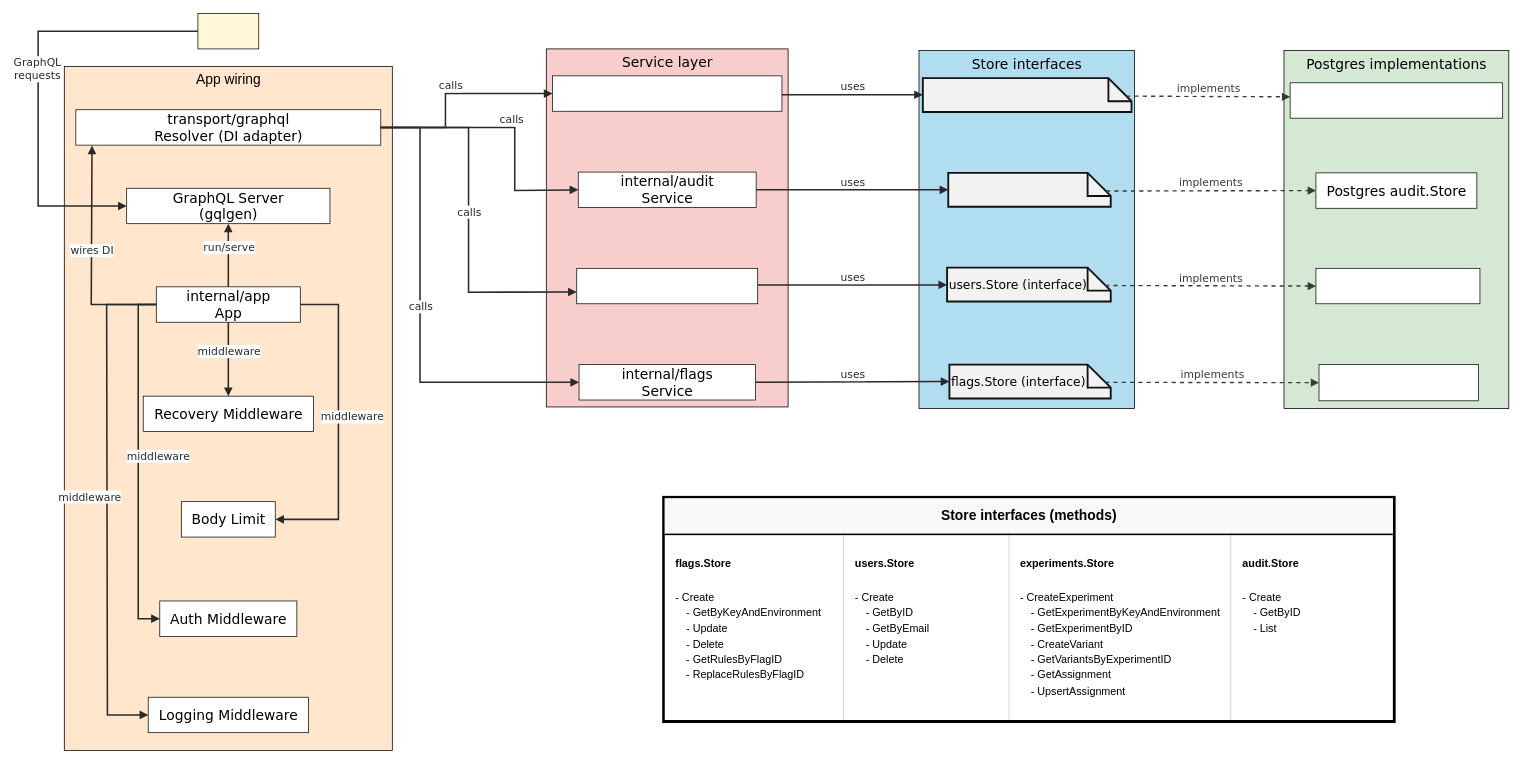
This 1522x764 diagram has some shape labels left out. Here are the shapes that lost their labels. From the top down, the centre of each, then its label:
At (228,31): "Client".
At (667,93): "internal/experiments Service".
At (1027,95): "experiments.Store (interface)".
At (1396,100): "Postgres experiments.Store".
At (1029,189): "audit.Store (interface)".
At (667,286): "internal/users Service".
At (1397,286): "Postgres users.Store".
At (1398,382): "Postgres flags.Store".
